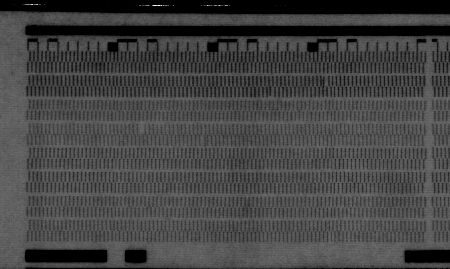Broken hole: (135, 124, 147, 136)
Oblique printing: (197, 135, 210, 148), (265, 86, 277, 100), (318, 75, 331, 87)
